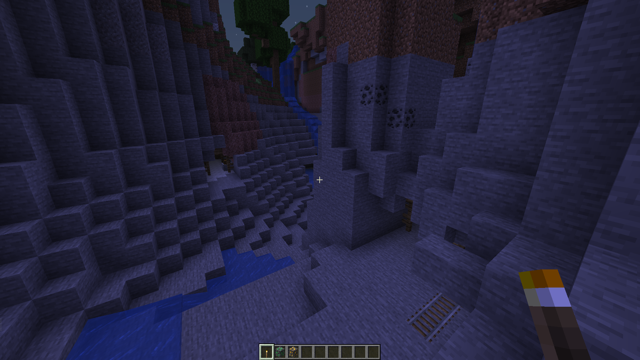coal: (359, 84, 417, 130)
